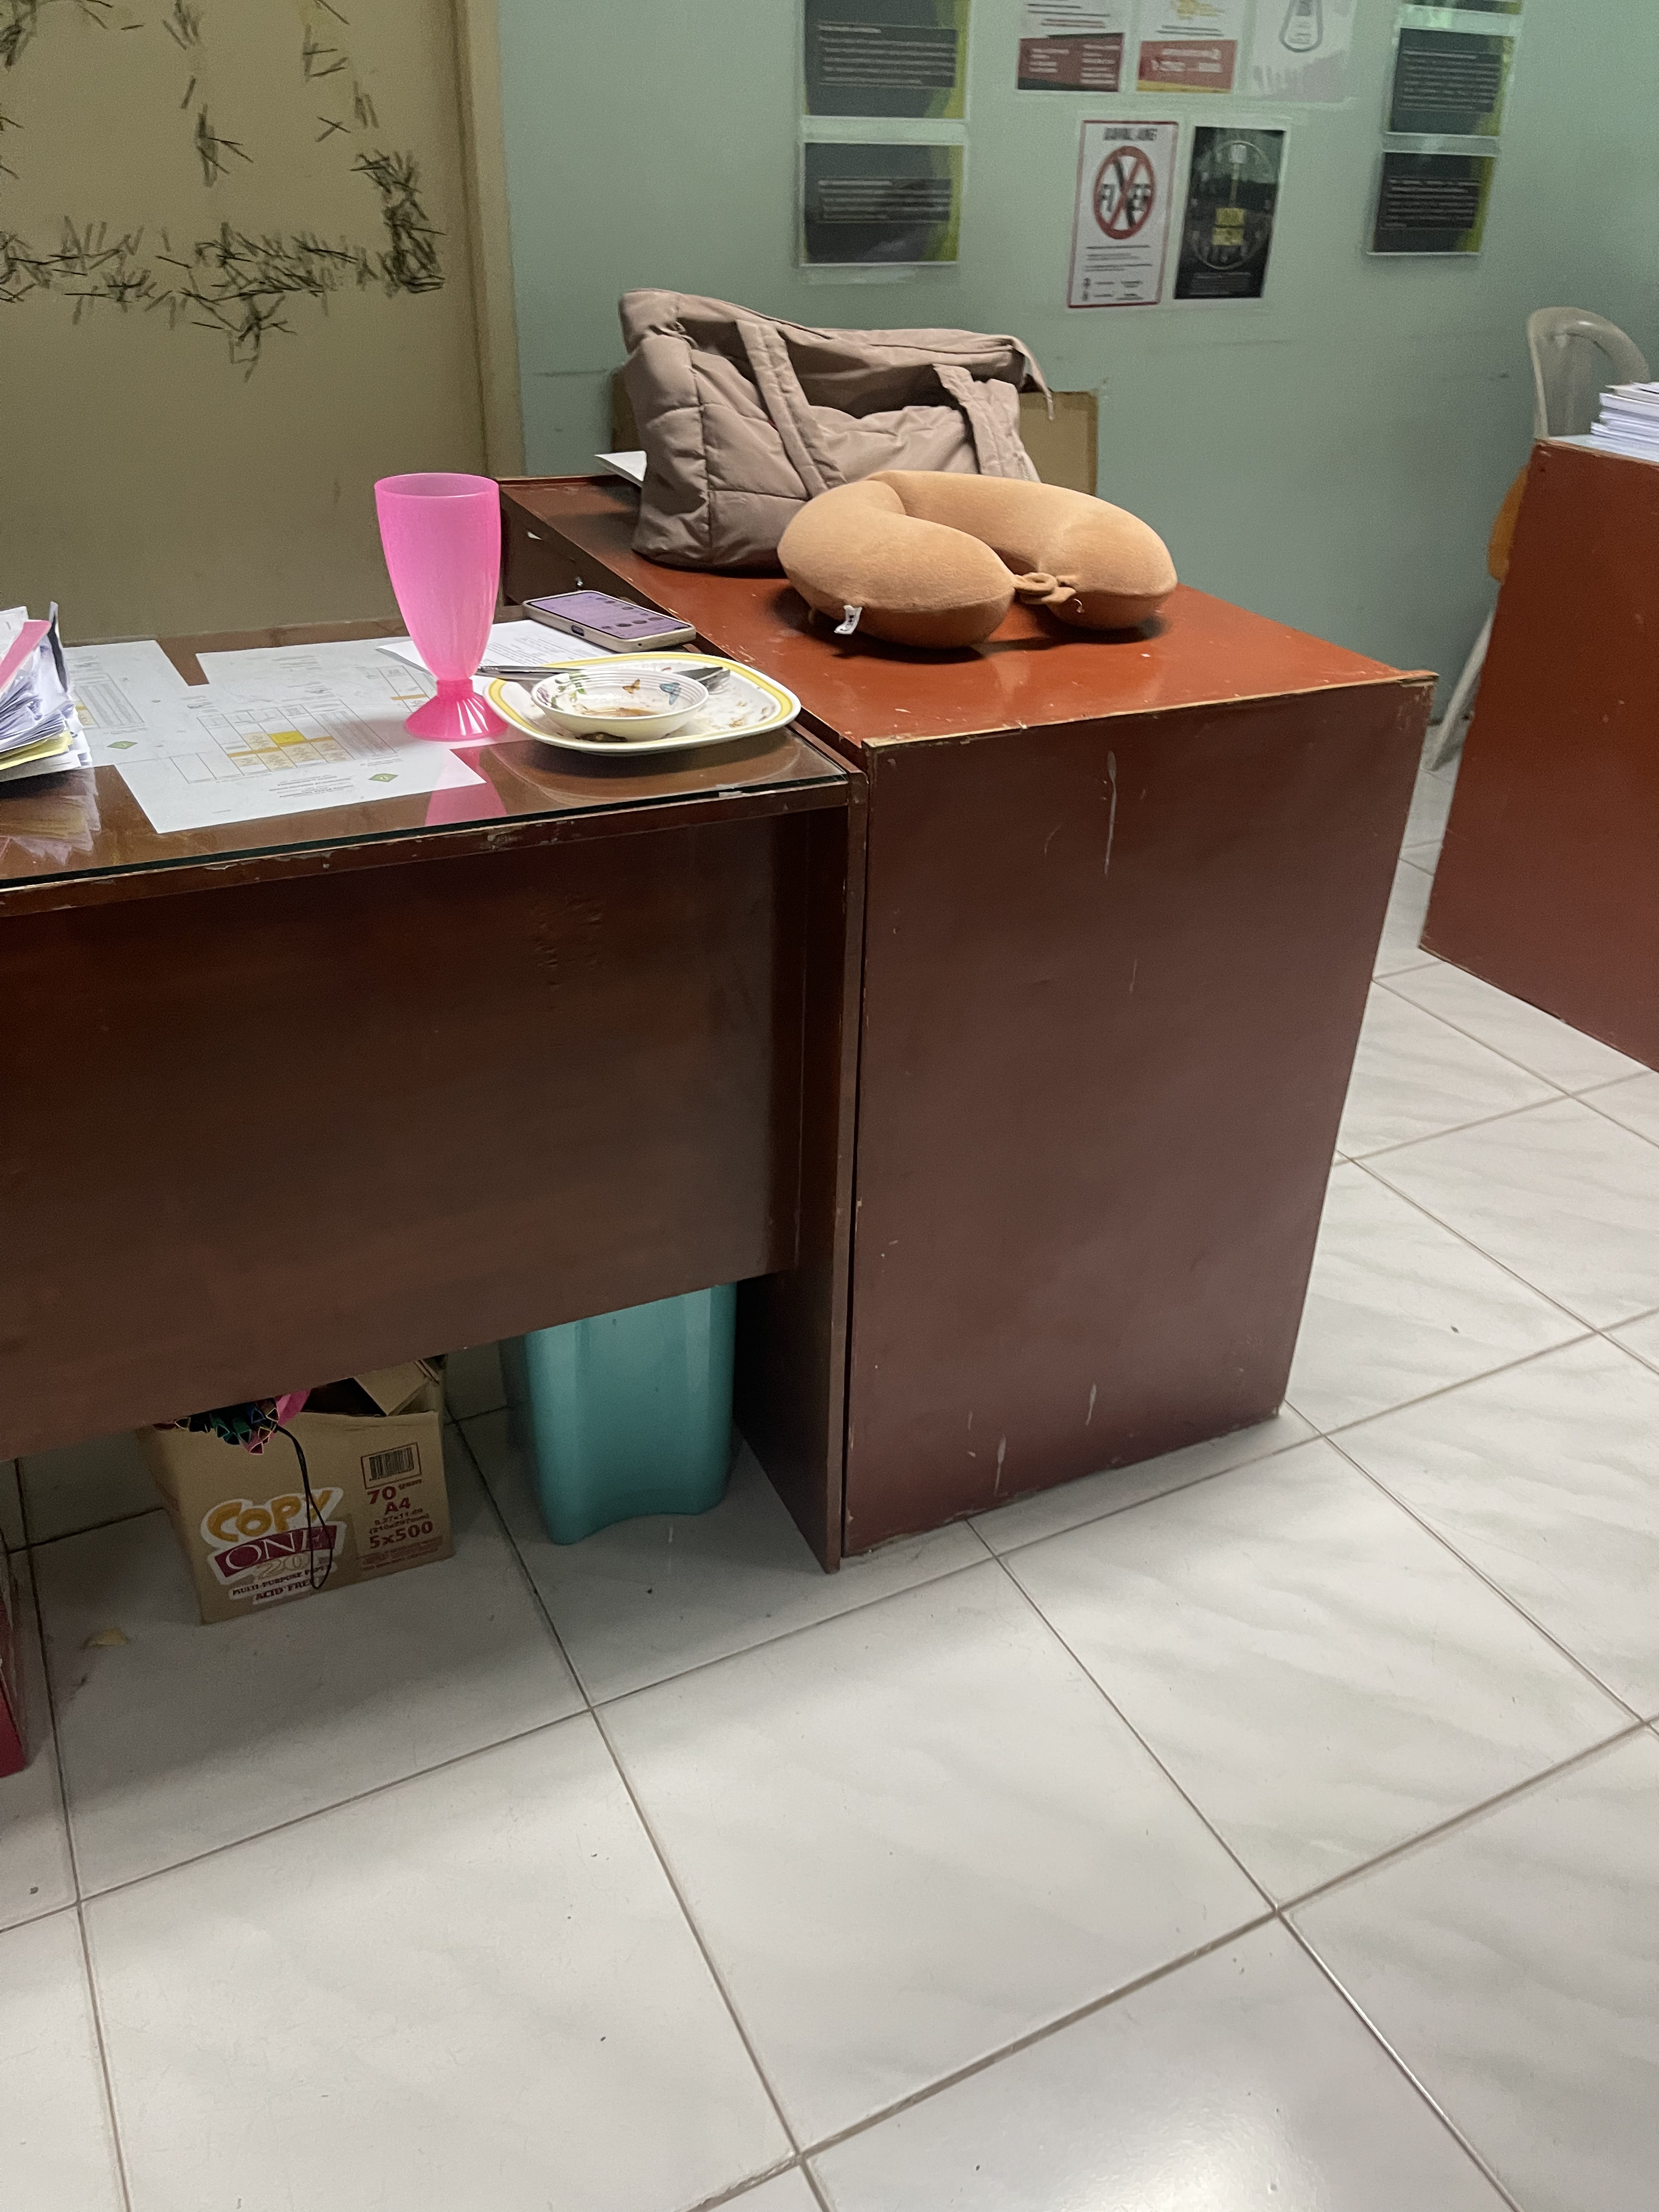table2: (0, 509, 1366, 1568)
